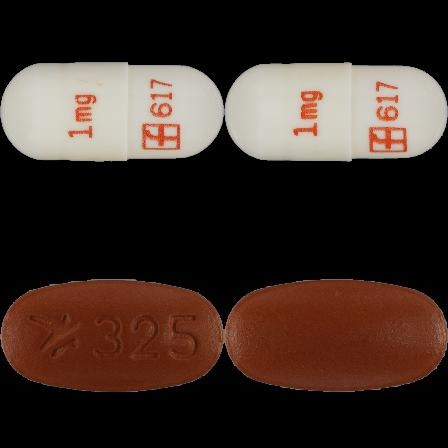0469-0617: (0, 0, 224, 224)
